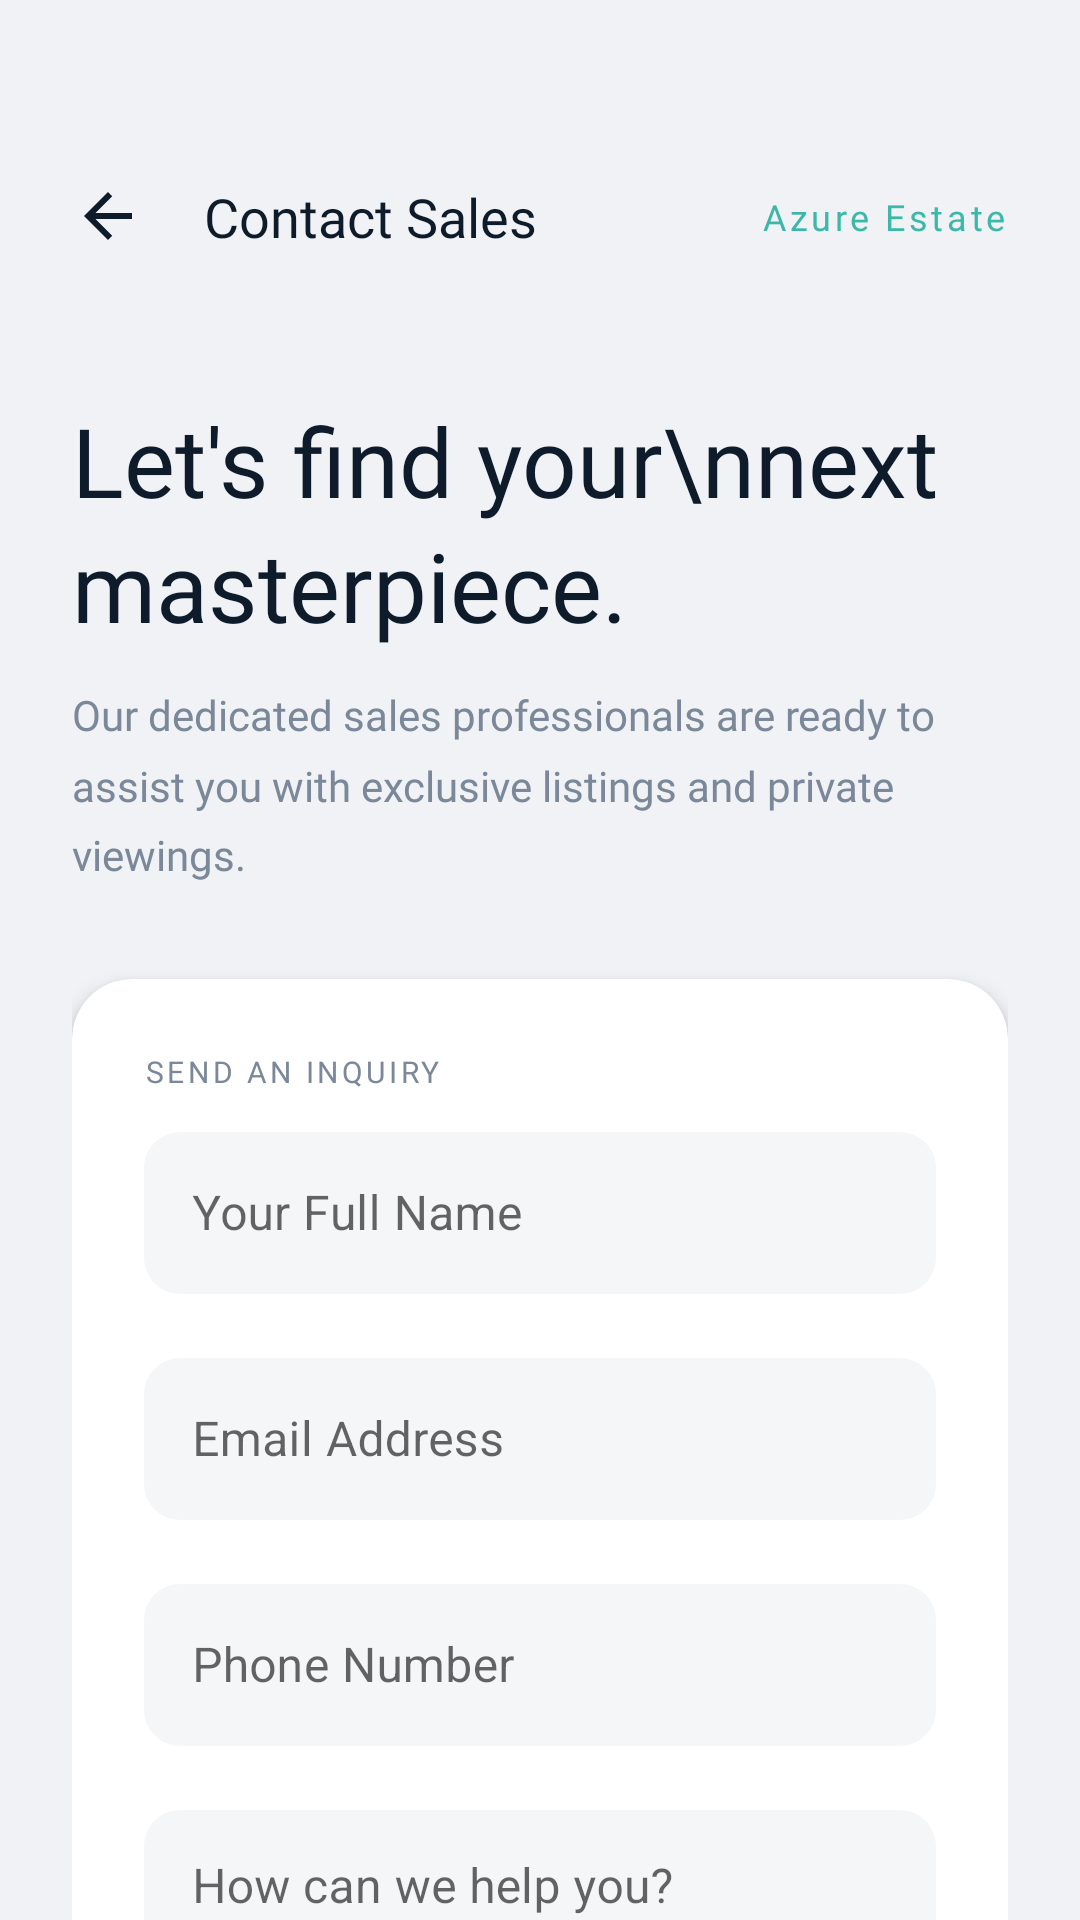

Where icons sit on this 1080x1920 app screen, as (x1, y1, x2, y2):
back: (84, 192, 132, 240)
